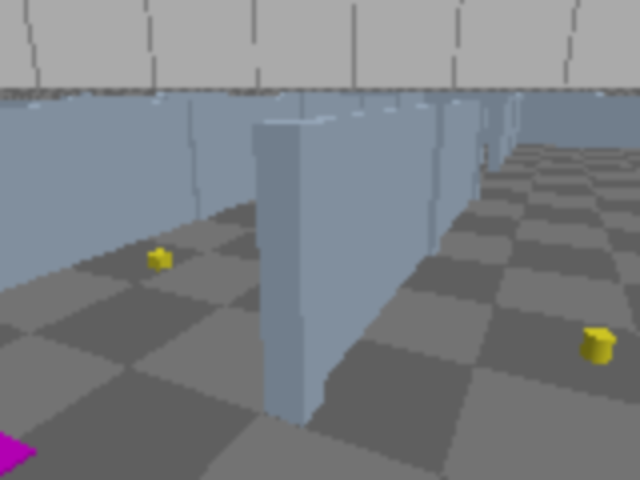goal_zone: (0, 384, 36, 478)
puck: (580, 328, 615, 363), (147, 249, 173, 271)
